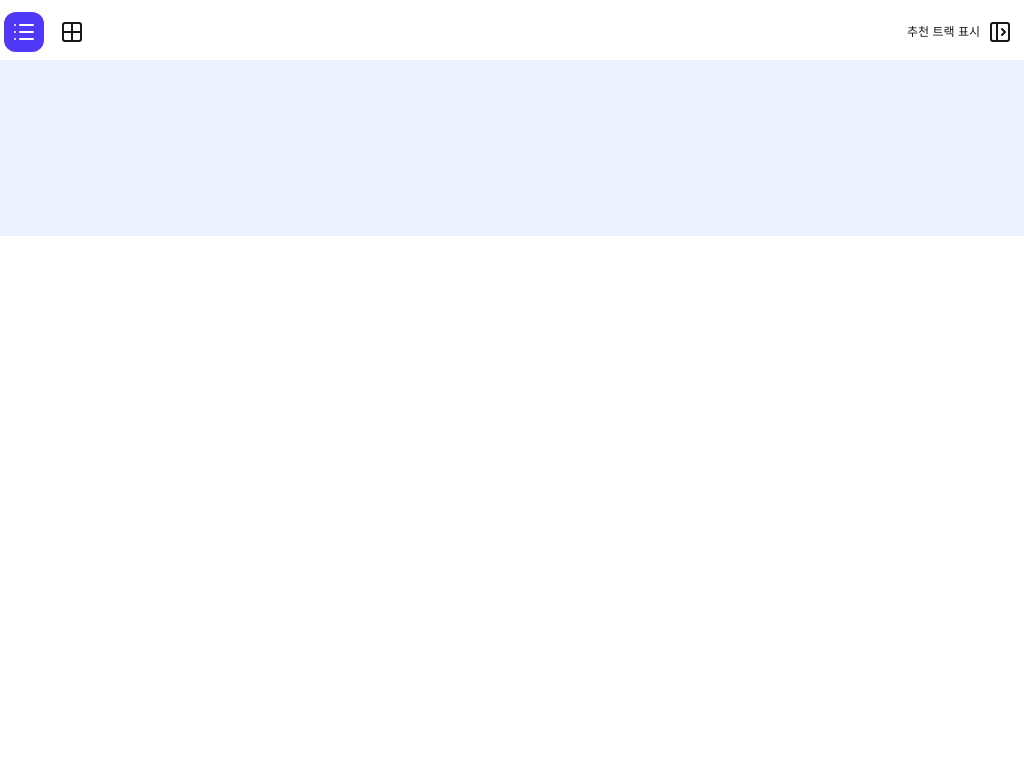
Scenario: TrackViewContainer 컴포넌트 › 트랙 리스트 툴바 상호작용 테스트 › 추천 트랙 토글 클릭 시 추천 트랙 표시 UI가 토글된다.
Click the text "추천 트랙 표시" at (944, 32), box [907,24,980,40]
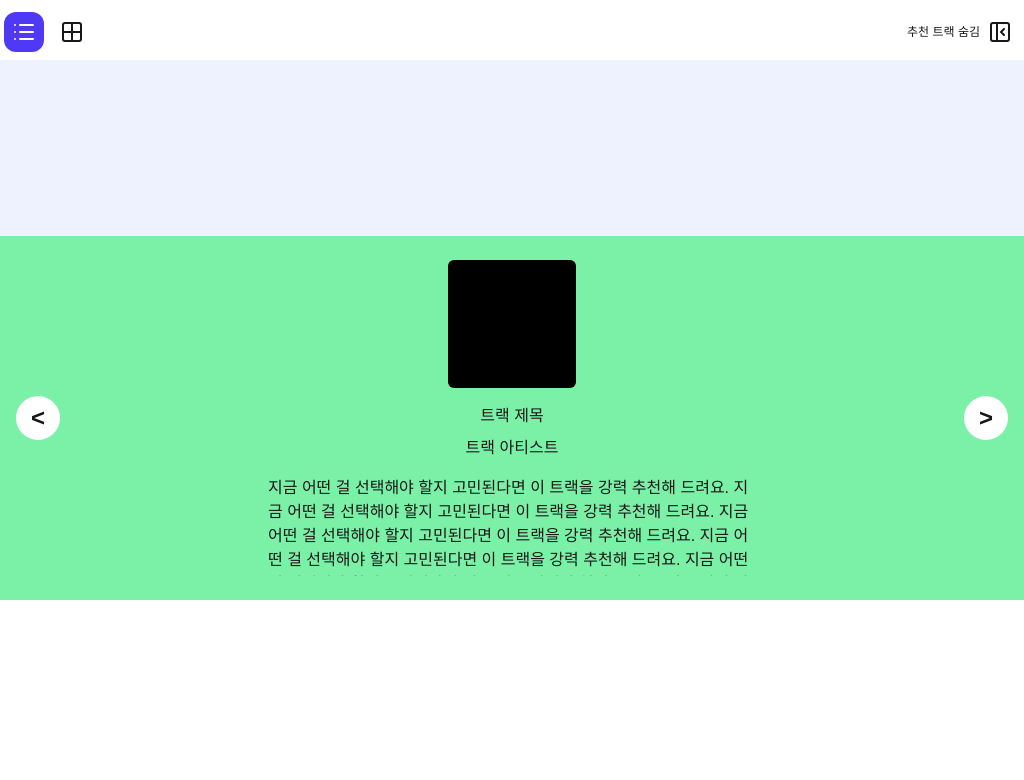
Check: the element named "추천 트랙 캐러셀" is shown, box [0,236,1023,600]
Check: the text "추천 트랙 표시" reads "추천 트랙 숨김"
Click the text "추천 트랙 표시" at (944, 32), box [907,24,980,40]
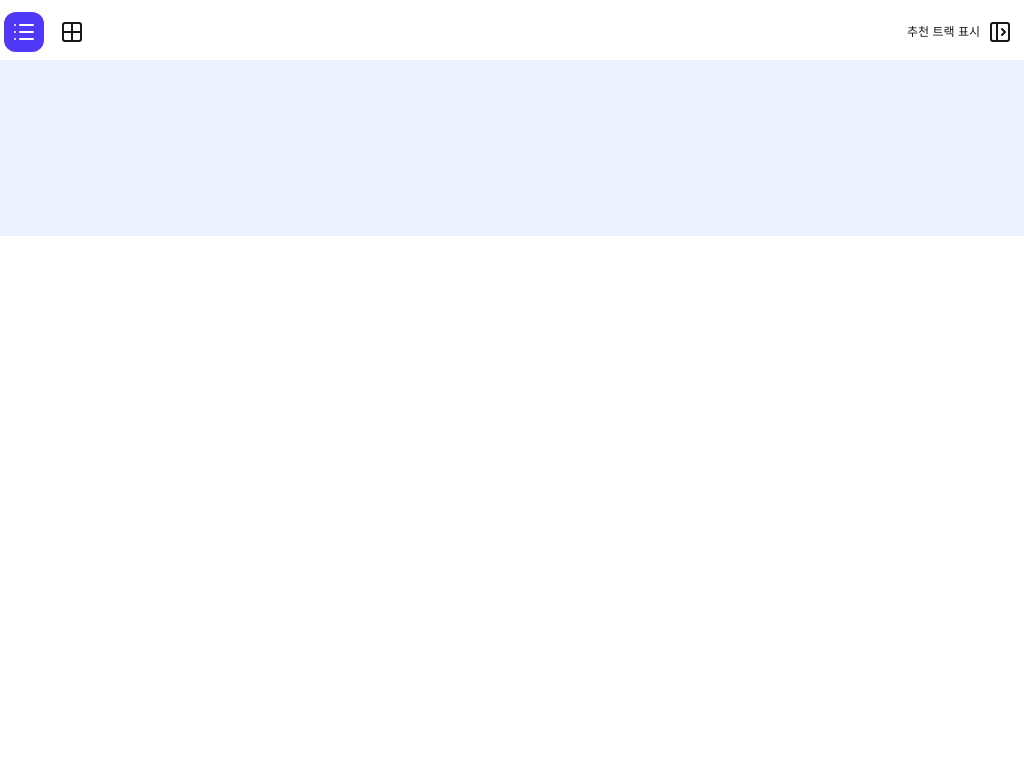
Check: the text "추천 트랙 표시" is shown, box [907,24,980,40]
